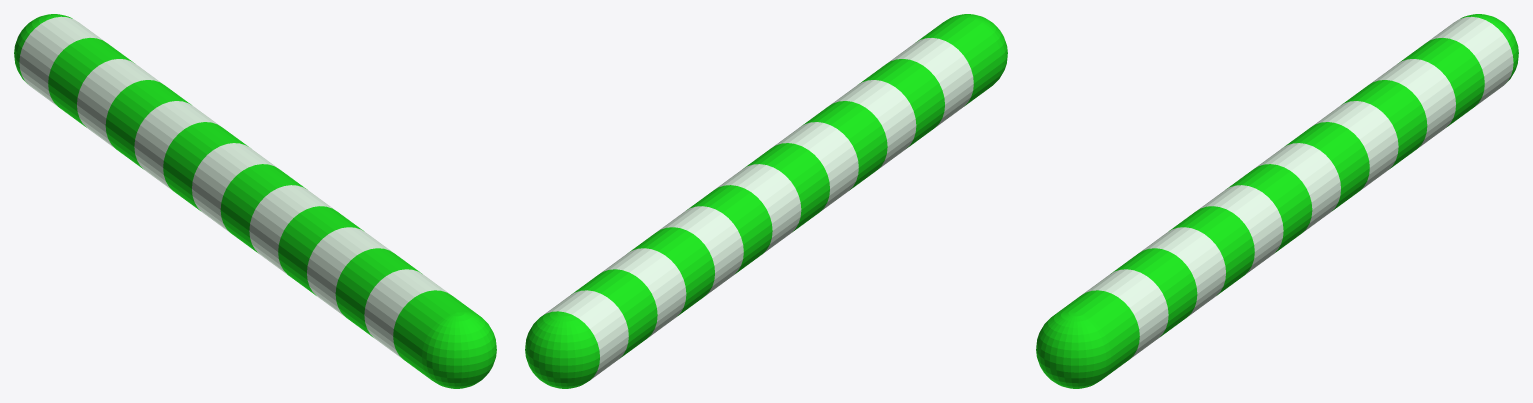
The model's file is Walls.fbx.
The picture shows the model from 3 angles, left to right: view 1: azimuth 30°, elevation 25°; view 2: azimuth 150°, elevation 25°; view 3: azimuth 330°, elevation 25°; orthographic projection.
Parts seen in each view (by area): view 1: Cylinder; view 2: Cylinder; view 3: Cylinder.
Boxes of the visible parts, left/top/right/bottom form: Cylinder: left=14, top=14, right=496, bottom=388; Cylinder: left=525, top=14, right=1007, bottom=388; Cylinder: left=1036, top=14, right=1518, bottom=388.
Size of the model in its own units: 100 by 100 by 1100.
